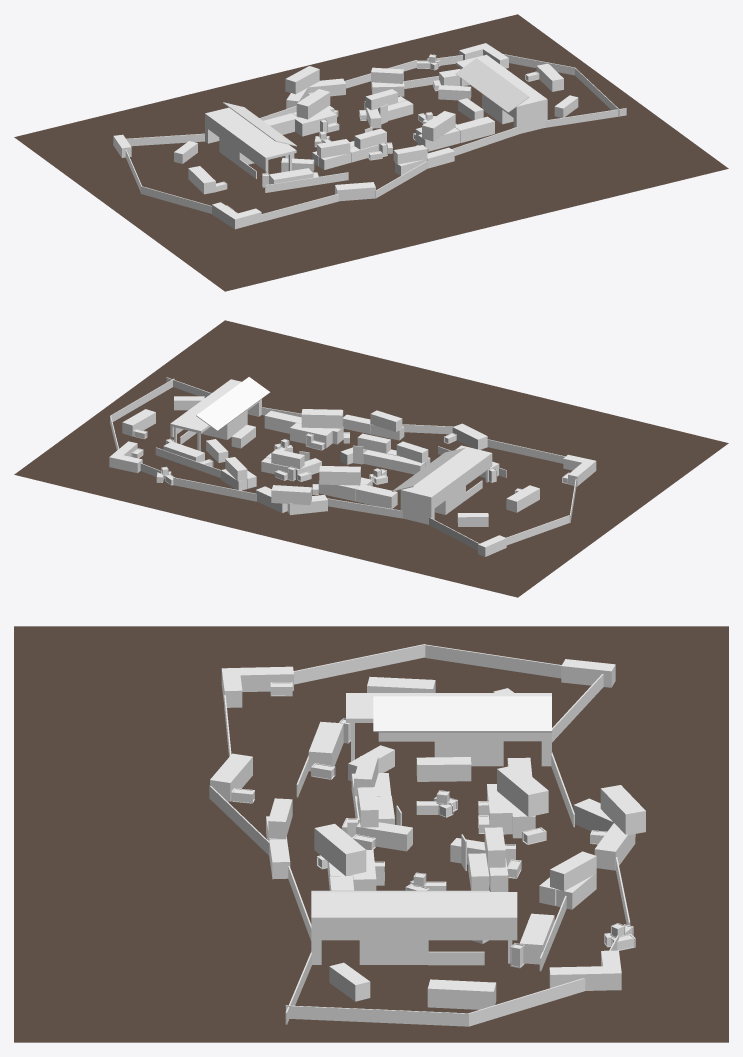
Rendered from blockmap.glb.
3 views of the same model, one above another, from view 1: azimuth 30°, elevation 25°; view 2: azimuth 150°, elevation 25°; view 3: azimuth 270°, elevation 25° (orthographic). The views are drawn at different scales.
Parts seen in each view (by area): view 1: Plane, Cube.003, Cube.042, Cube.063, Cube.104, Cube.016, Cube.006, Cube.044, Cube.046, Cube.023, Cube.086, Cube.083 (+20 smaller); view 2: Plane, Cube.003, Cube.042, Cube.063, Cube.046, Cube.006, Cube.001, Cube.098, Cube.097, Cube.023, Cube.086, Cube.018 (+16 smaller); view 3: Plane, Cube.042, Cube.023, Cube.003, Cube.104, Cube.106, Cube.040, Cube.046, Cube.105, Cube.006, Cube.098, Cube.004 (+26 smaller).
Boxes of the visible parts, <box> form: Plane: <box>14,14,728,291</box>; Cube.003: <box>205,107,296,170</box>; Cube.042: <box>456,54,547,133</box>; Cube.063: <box>455,58,529,112</box>; Cube.104: <box>503,54,619,117</box>; Cube.016: <box>265,172,348,192</box>; Cube.006: <box>296,89,330,119</box>; Cube.044: <box>455,116,494,143</box>; Cube.046: <box>422,111,455,141</box>; Cube.023: <box>223,102,296,146</box>; Cube.086: <box>261,193,338,221</box>; Cube.083: <box>335,182,375,201</box>; Plane: <box>14,320,728,597</box>; Cube.003: <box>400,445,492,524</box>; Cube.042: <box>170,379,261,439</box>; Cube.063: <box>196,377,270,431</box>; Cube.046: <box>301,409,343,428</box>; Cube.006: <box>319,466,360,485</box>; Cube.001: <box>355,484,397,508</box>; Cube.098: <box>271,485,311,505</box>; Cube.097: <box>173,477,256,501</box>; Cube.023: <box>392,447,466,491</box>; Cube.086: <box>487,439,565,463</box>; Cube.018: <box>327,498,402,518</box>; Plane: <box>14,626,728,1042</box>; Cube.042: <box>311,892,517,964</box>; Cube.023: <box>373,696,551,732</box>; Cube.003: <box>346,693,551,766</box>; Cube.104: <box>285,978,585,1026</box>; Cube.106: <box>425,644,561,678</box>; Cube.040: <box>427,979,496,1009</box>; Cube.046: <box>314,823,366,876</box>; Cube.105: <box>293,644,425,684</box>; Cube.006: <box>497,764,548,816</box>; Cube.098: <box>600,785,645,834</box>; Cube.004: <box>416,757,471,781</box>.
Bounding box in the file's own units: 104 × 7.27 × 75.11.
